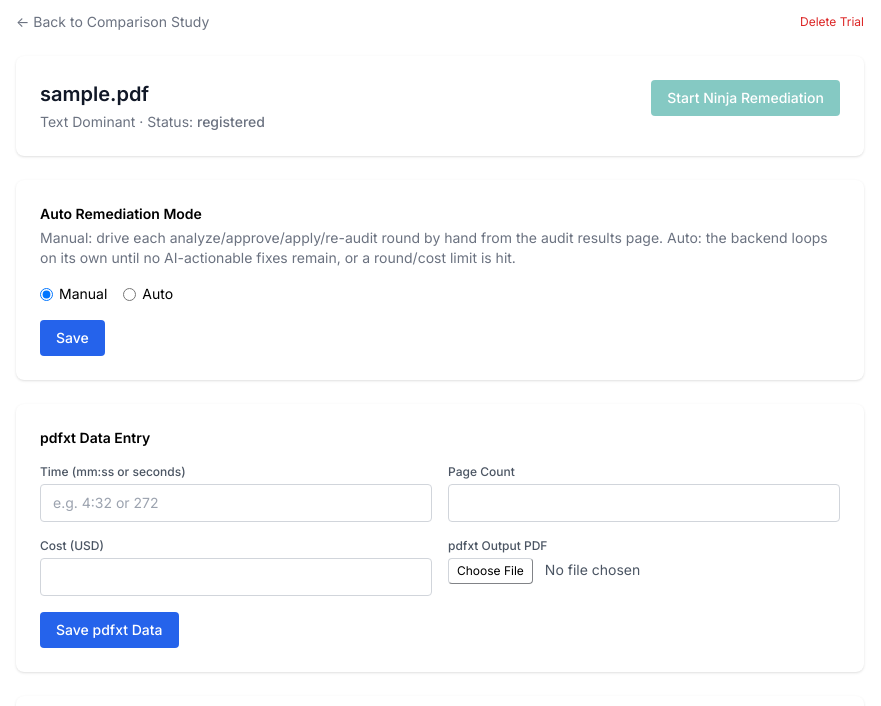
Test: ComparisonTrialWorkspacePage › Auto Remediation Mode config › regression: rejects a non-integer max rounds (e.g. 1.5) instead of sending it to the API
Click the radio button labelled "Auto" at (130, 294), box left=123, top=288, right=136, bottom=300
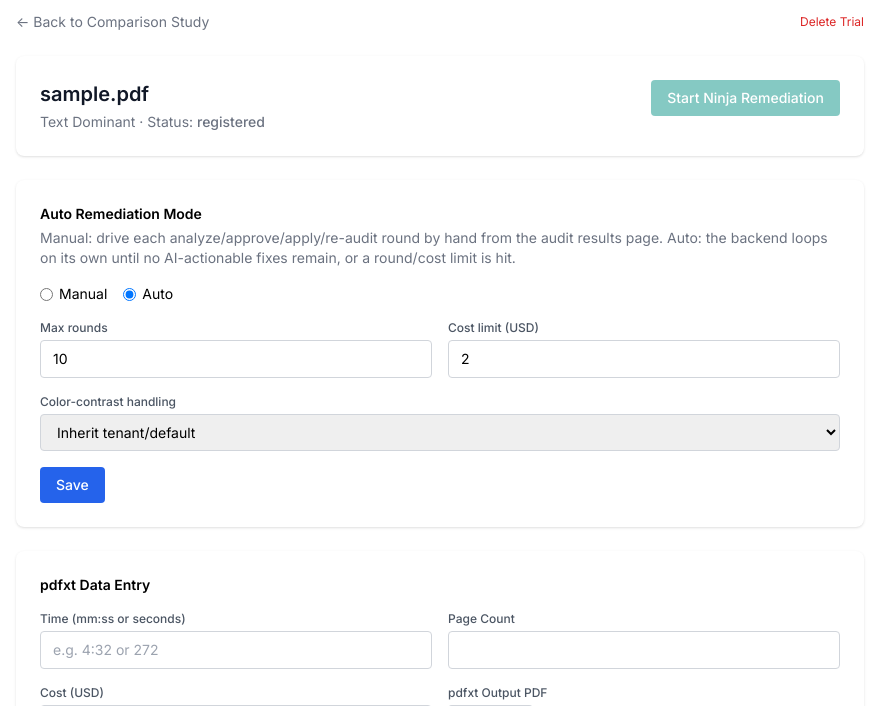
Replace the text in the number field labelled "Max rounds" with "1.5" at (236, 359), box left=40, top=340, right=432, bottom=378
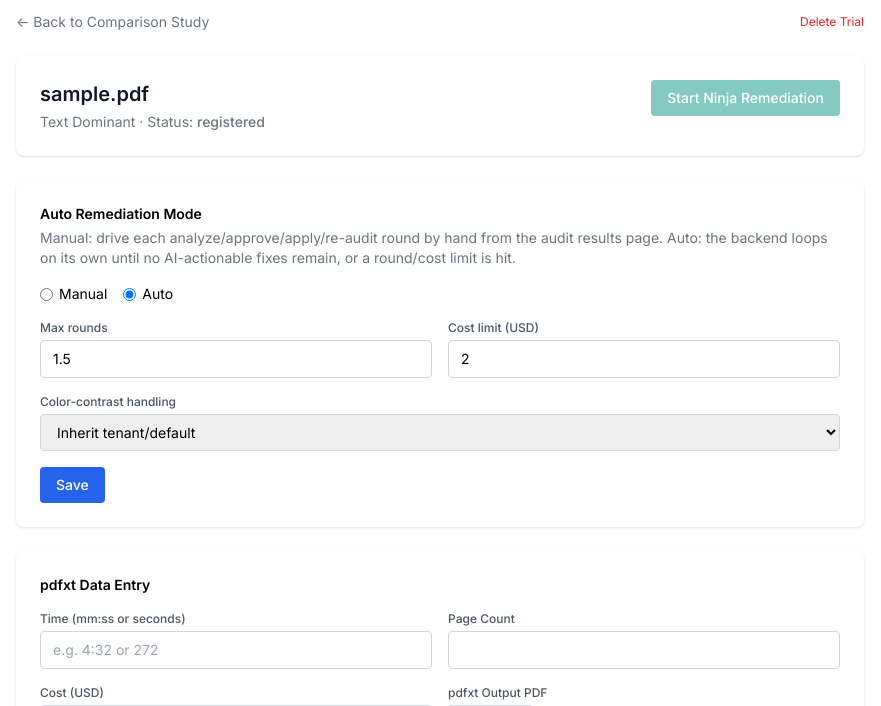
Click the button "Save" at (72, 485), box left=40, top=467, right=105, bottom=503
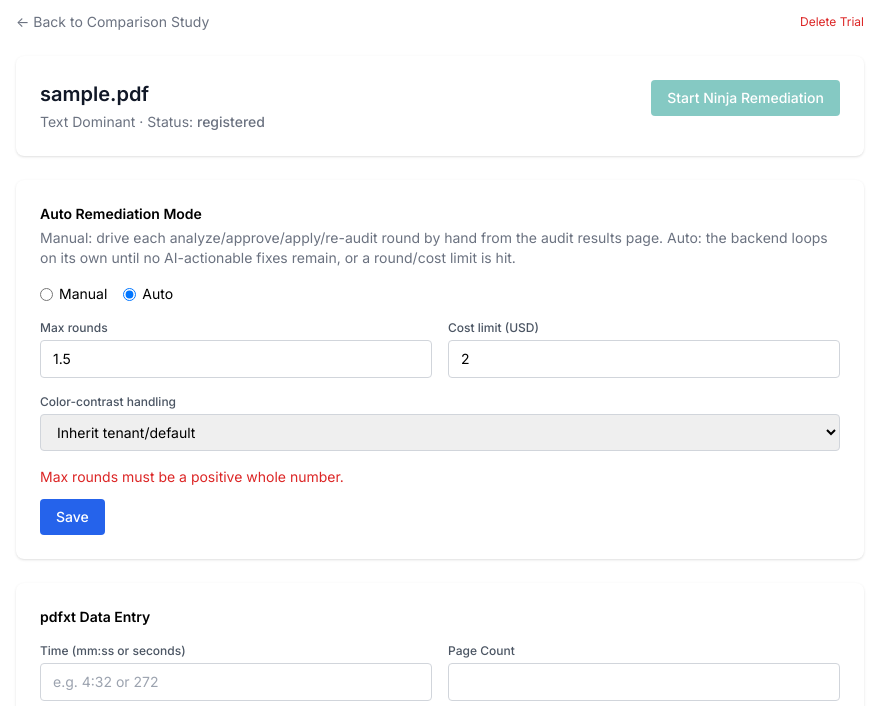
Expected: the text "Max rounds must be a positive whole number." is shown, left=40, top=468, right=344, bottom=485
